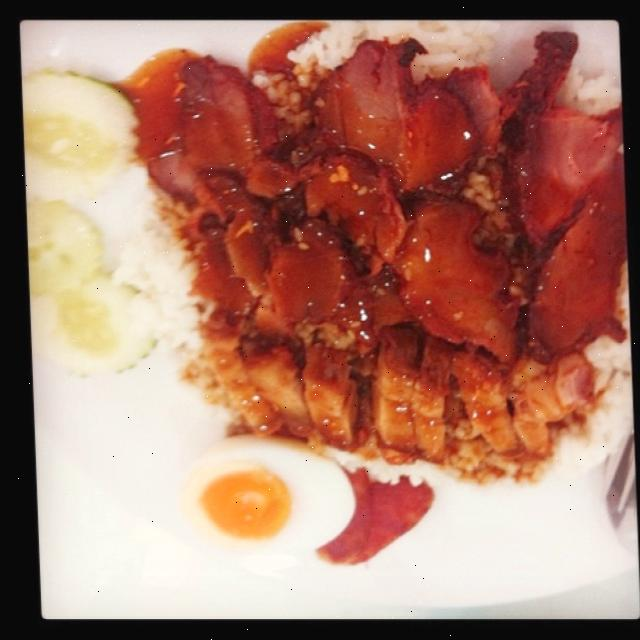猪肉菜式: (55, 28, 621, 590)
